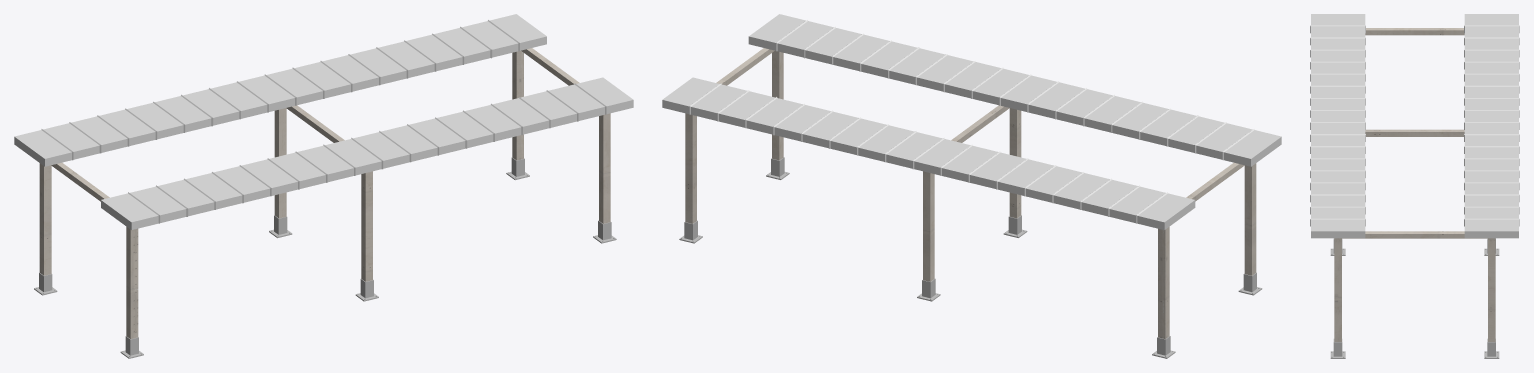
File: KB3D_CBP_RoofStructure_B.fbx
The picture shows the model from 3 angles, left to right: view 1: azimuth 30°, elevation 25°; view 2: azimuth 150°, elevation 25°; view 3: azimuth 270°, elevation 25°; orthographic projection. The views are drawn at different scales.
Visible parts, largest first — view 1: KB3D_CBP_RoofStructure_B_Main; view 2: KB3D_CBP_RoofStructure_B_Main; view 3: KB3D_CBP_RoofStructure_B_Main.
Part boxes in pixels (left/top/right/bottom): KB3D_CBP_RoofStructure_B_Main: left=14, top=14, right=633, bottom=358; KB3D_CBP_RoofStructure_B_Main: left=662, top=14, right=1281, bottom=358; KB3D_CBP_RoofStructure_B_Main: left=1310, top=14, right=1519, bottom=358.
Bounding box in the file's own units: 1985 × 557 × 809.
